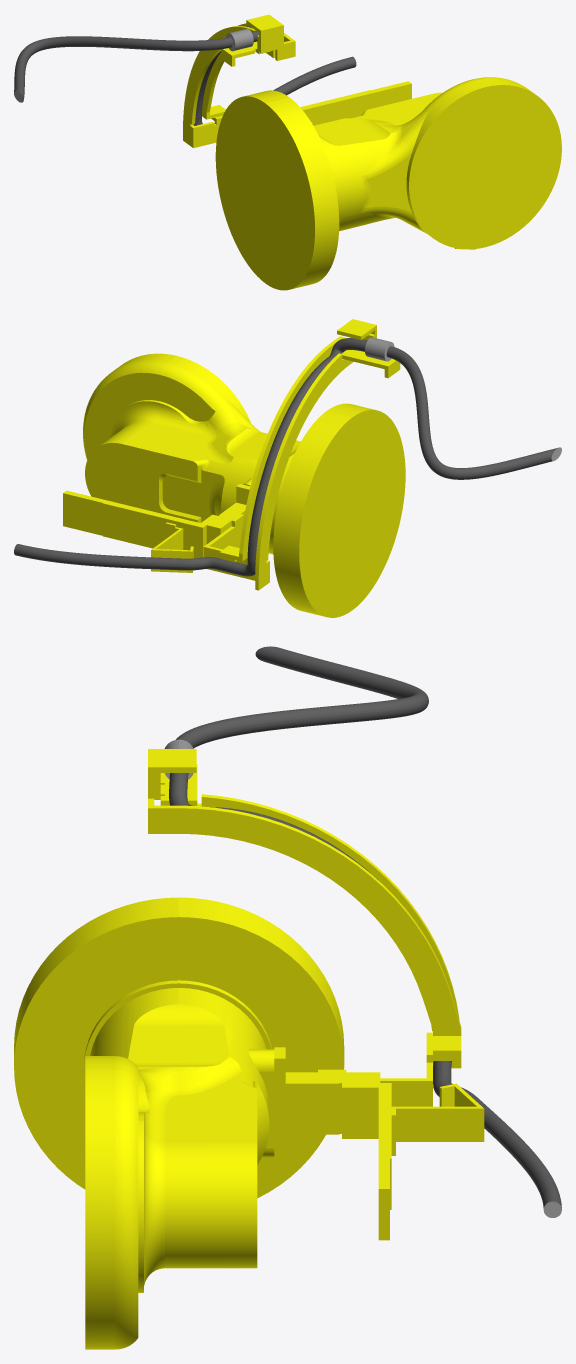
3 views of the same model, one above another, from view 1: azimuth 30°, elevation 25°; view 2: azimuth 150°, elevation 25°; view 3: azimuth 270°, elevation 25° (orthographic). The views are drawn at different scales.
Visible parts, largest first — view 1: Mesh_0; view 2: Mesh_0; view 3: Mesh_0.
Boxes of the visible parts, x1,y1,x2,y2 form: Mesh_0: (14,14,561,290); Mesh_0: (14,319,561,617); Mesh_0: (14,646,561,1349).
Size of the model in its own units: 0.6621 by 0.3883 by 0.3415.
